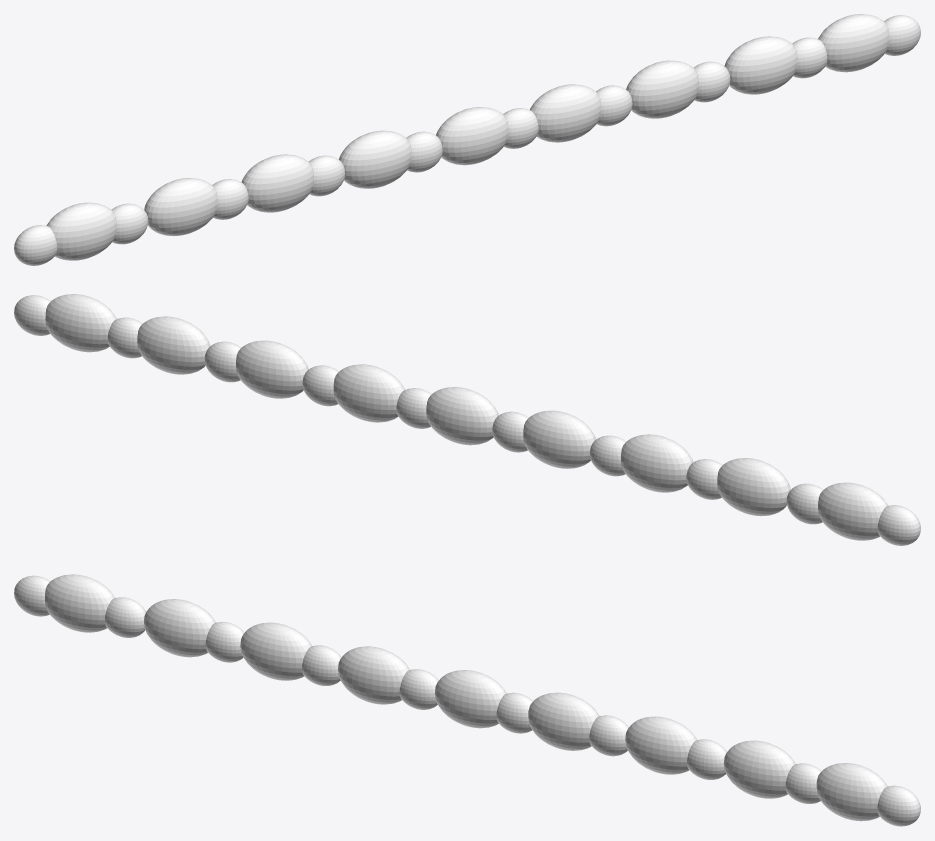
Rendered from cloud.obj.
3 renders of one model, top to bottom at view 1: azimuth 30°, elevation 25°; view 2: azimuth 150°, elevation 25°; view 3: azimuth 330°, elevation 25°, orthographic.
Visible parts, largest first — view 1: 球.011_球.015; view 2: 球.011_球.015; view 3: 球.011_球.015.
Part boxes in pixels (x1=…): 球.011_球.015: x1=14, y1=14, x2=920, y2=265; 球.011_球.015: x1=14, y1=294, x2=920, y2=545; 球.011_球.015: x1=14, y1=574, x2=920, y2=826.
Bounding box in the file's own units: 49.71 × 2.8 × 2.
Materials: 1 (1 with a texture image).
